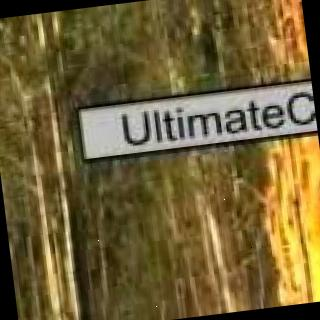fire: (262, 143, 320, 306), (269, 0, 310, 73)
